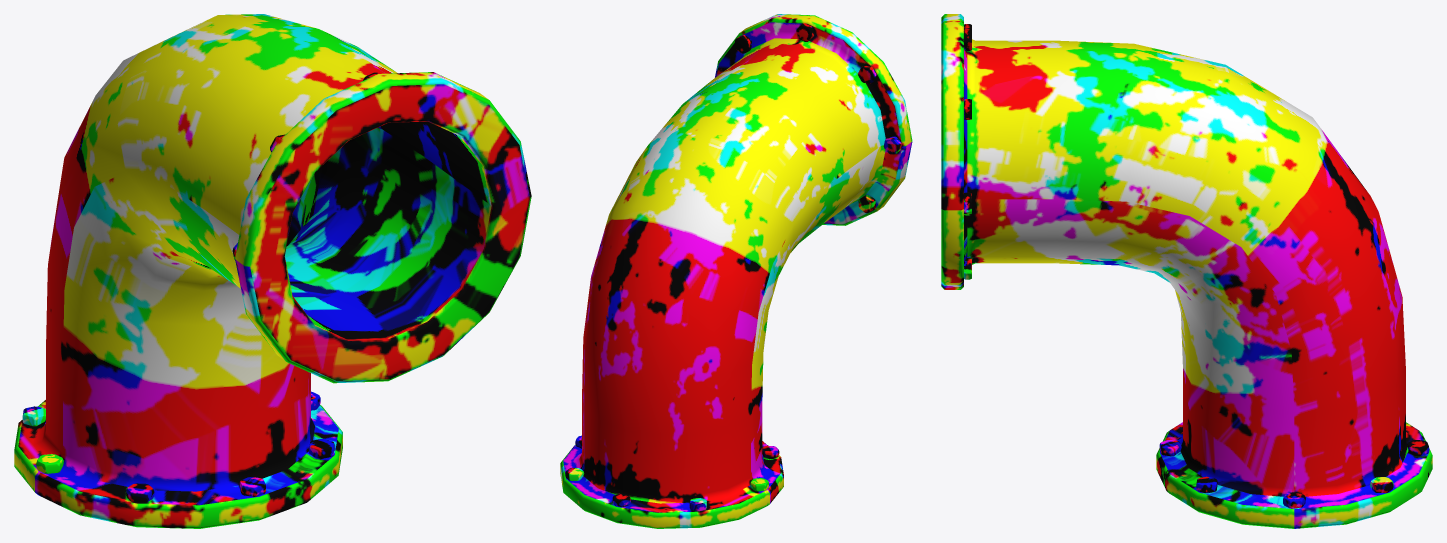
Rendered from sm_PipeElbow_01_01.fbx.
The picture shows the model from 3 angles, left to right: view 1: azimuth 30°, elevation 25°; view 2: azimuth 150°, elevation 25°; view 3: azimuth 270°, elevation 25°; orthographic projection. The views are drawn at different scales.
Visible parts, largest first — view 1: sm_PipeElbow_01_01_LOD0; view 2: sm_PipeElbow_01_01_LOD0; view 3: sm_PipeElbow_01_01_LOD0.
Boxes of the visible parts, x1,y1,x2,y2 form: sm_PipeElbow_01_01_LOD0: (14, 14, 531, 528); sm_PipeElbow_01_01_LOD0: (560, 14, 912, 528); sm_PipeElbow_01_01_LOD0: (941, 14, 1432, 528).
Bounding box in the file's own units: 29.76 × 52.88 × 52.88.
